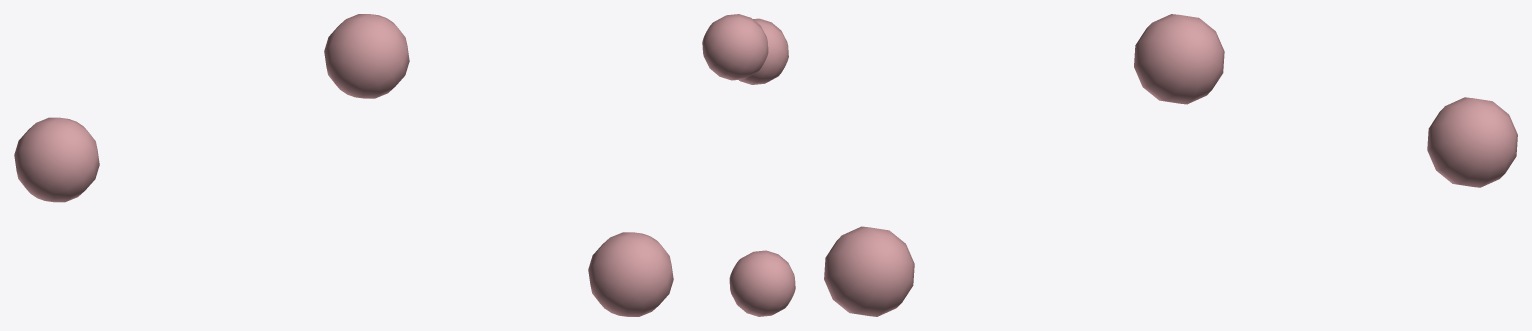
3 views of the same model, side by side, from view 1: azimuth 30°, elevation 25°; view 2: azimuth 150°, elevation 25°; view 3: azimuth 270°, elevation 25° (orthographic). The views are drawn at different scales.
Parts seen in each view (by area): view 1: ZA_751d30ef6edd0341; view 2: ZA_751d30ef6edd0341; view 3: ZA_751d30ef6edd0341.
Part boxes in pixels (x1=…): ZA_751d30ef6edd0341: x1=14, y1=14, x2=673, y2=316; ZA_751d30ef6edd0341: x1=702, y1=14, x2=795, y2=316; ZA_751d30ef6edd0341: x1=824, y1=14, x2=1517, y2=316.
Size of the model in its own units: 0.0127 by 0.00795 by 0.0196.
